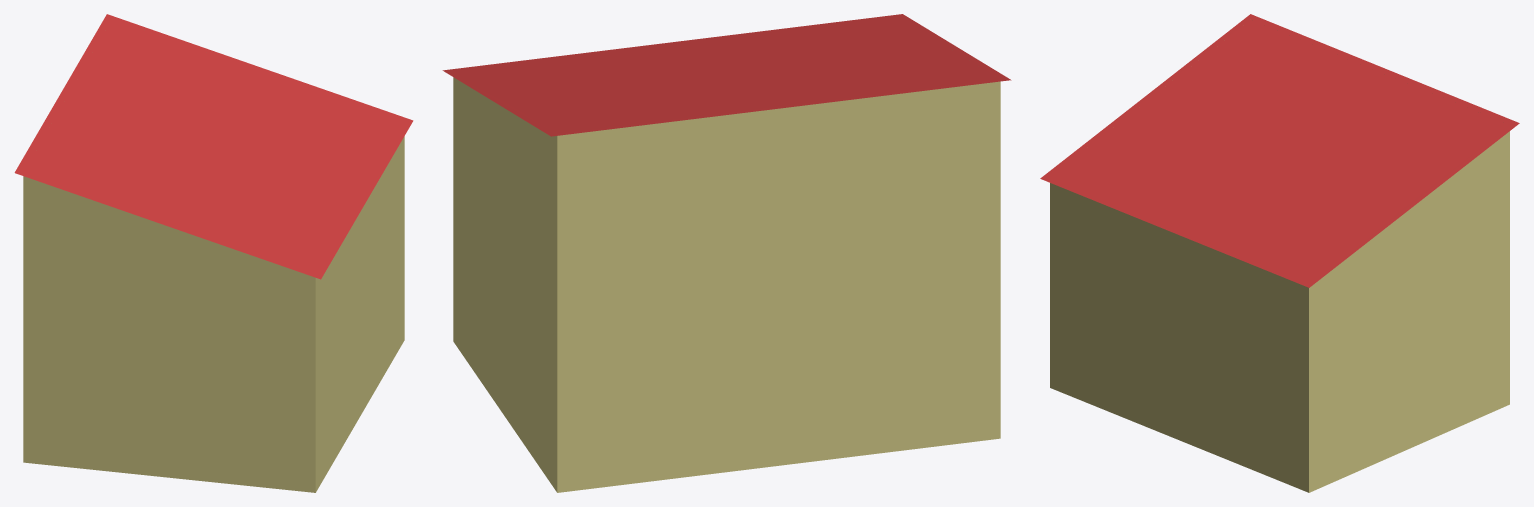
3 views of the same model, side by side, from view 1: azimuth 30°, elevation 25°; view 2: azimuth 150°, elevation 25°; view 3: azimuth 270°, elevation 25° (orthographic). The views are drawn at different scales.
Size of the model in its own units: 17.13 by 17.2 by 11.12.
